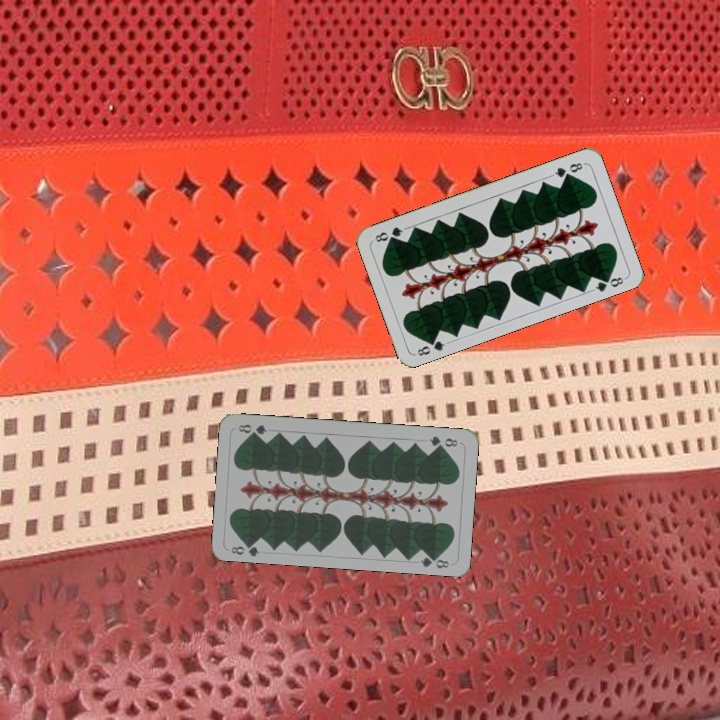G8: (411, 333, 451, 359), (548, 159, 587, 180), (227, 538, 262, 558), (425, 432, 460, 450)
